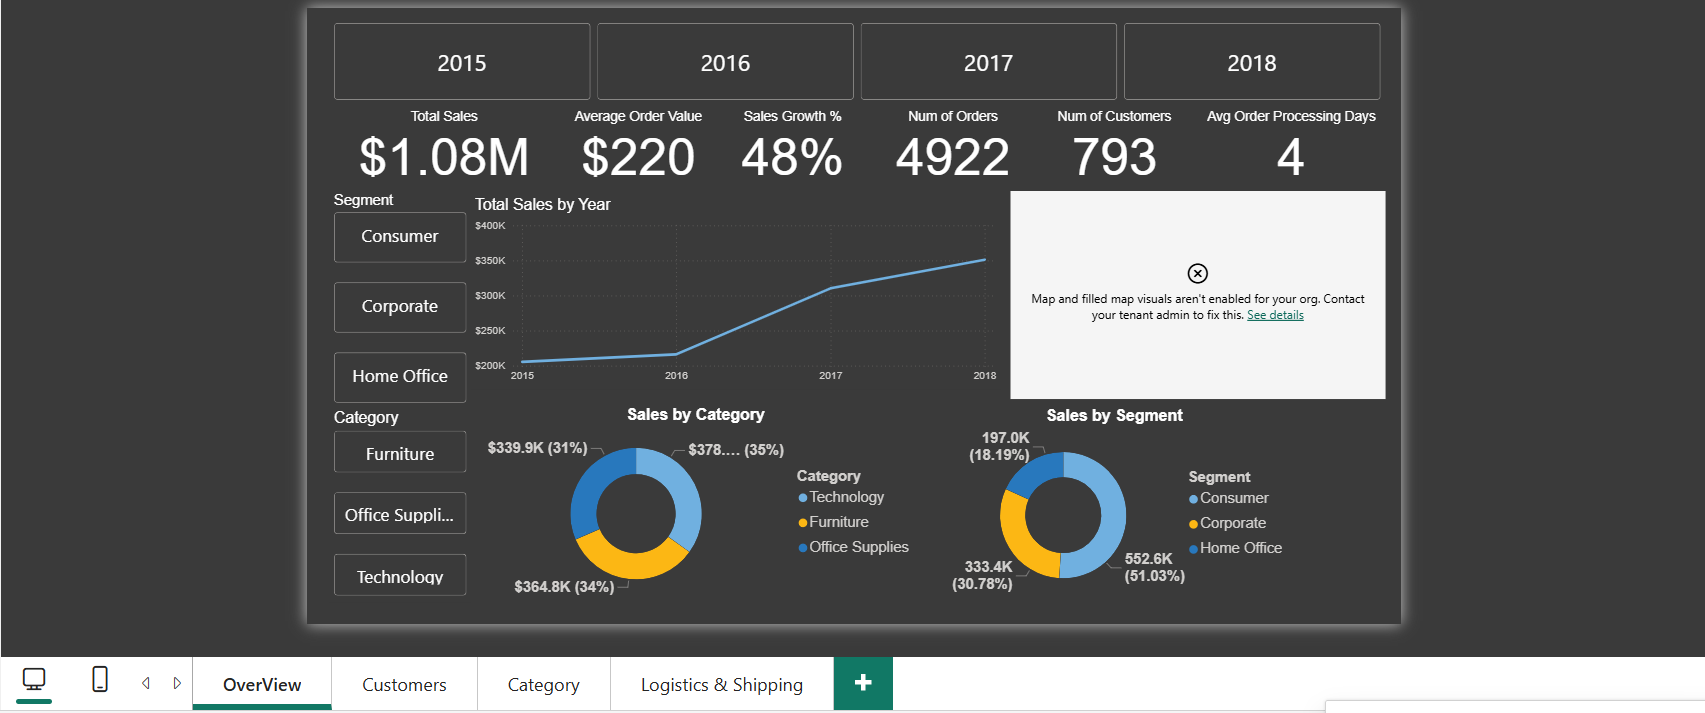

This screenshot's page, from the dashboard's own definition file:
{"tool":"powerbi","page":{"name":"OverView","canvas":[1280,720],"ordinal":0},"visuals":[{"type":"card","fields":{"Values":["train.Total Sales"]},"box":[25,111.7,271.7,90],"z":0},{"type":"card","fields":{"Values":["train.Total Orders"]},"box":[663.3,111.7,185,90],"z":1000},{"type":"card","fields":{"Values":["train.Customer Count"]},"box":[855,111.7,180,90],"z":2000},{"type":"card","fields":{"Values":["train.Avg Processing Days"]},"box":[1045,111.7,211.7,90],"z":3000},{"type":"lineChart","fields":{"Category":["train.Order Date.Variation.Date Hierarchy.Year","train.Order Date.Variation.Date Hierarchy.Quarter","train.Order Date.Variation.Date Hierarchy.Month","train.Order Date.Variation.Date Hierarchy.Day"],"Y":["train.Total Sales"]},"box":[191.7,220,620,226.7],"z":4000},{"type":"filledMap","fields":{"Category":["train.State"],"Series":["train.City"]},"box":[823.3,213.3,438.3,243.3],"z":5000},{"type":"donutChart","title":"Sales by Category","fields":{"Category":["train.Category"],"Y":["train.Total Sales"]},"box":[191.7,465,526.7,231.7],"z":6000},{"type":"donutChart","title":"Sales by Segment","fields":{"Category":["train.Segment"],"Y":["Sum(train.Sales)"]},"box":[733.3,466.7,421.7,231.7],"z":7000},{"type":"advancedSlicerVisual","fields":{"Values":["train.Order Year"]},"box":[26.7,11.7,1235,100],"z":8000},{"type":"advancedSlicerVisual","fields":{"Values":["train.Segment"]},"box":[26.7,208.3,165,260],"z":9000},{"type":"advancedSlicerVisual","fields":{"Values":["train.Category"]},"box":[26.7,468.3,165,226.7],"z":10000},{"type":"card","fields":{"Values":["train.Average Order Value"]},"box":[300,111.7,175,90],"z":11000},{"type":"card","fields":{"Values":["train.Sales Growth %"]},"box":[478.3,111.7,178.3,90],"z":12000}]}

Visuals, with their boxes on the page's 1280x720 design canvas (x1, y1, x2, y2). These are canvas units, not pixel positions in the 1705x713 screenshot, which may show the page scaled, cropped or inside an application window:
card - train.Total Sales: 25,112,297,202
card - train.Total Orders: 663,112,848,202
card - train.Customer Count: 855,112,1035,202
card - train.Avg Processing Days: 1045,112,1257,202
lineChart - train.Order Date.Variation.Date Hierarchy.Year x train.Order Date.Variation.Date Hierarchy.Quarter: 192,220,812,447
filledMap - train.State x train.City: 823,213,1262,457
"Sales by Category" donutChart: 192,465,718,697
"Sales by Segment" donutChart: 733,467,1155,698
advancedSlicerVisual - train.Order Year: 27,12,1262,112
advancedSlicerVisual - train.Segment: 27,208,192,468
advancedSlicerVisual - train.Category: 27,468,192,695
card - train.Average Order Value: 300,112,475,202
card - train.Sales Growth %: 478,112,657,202
